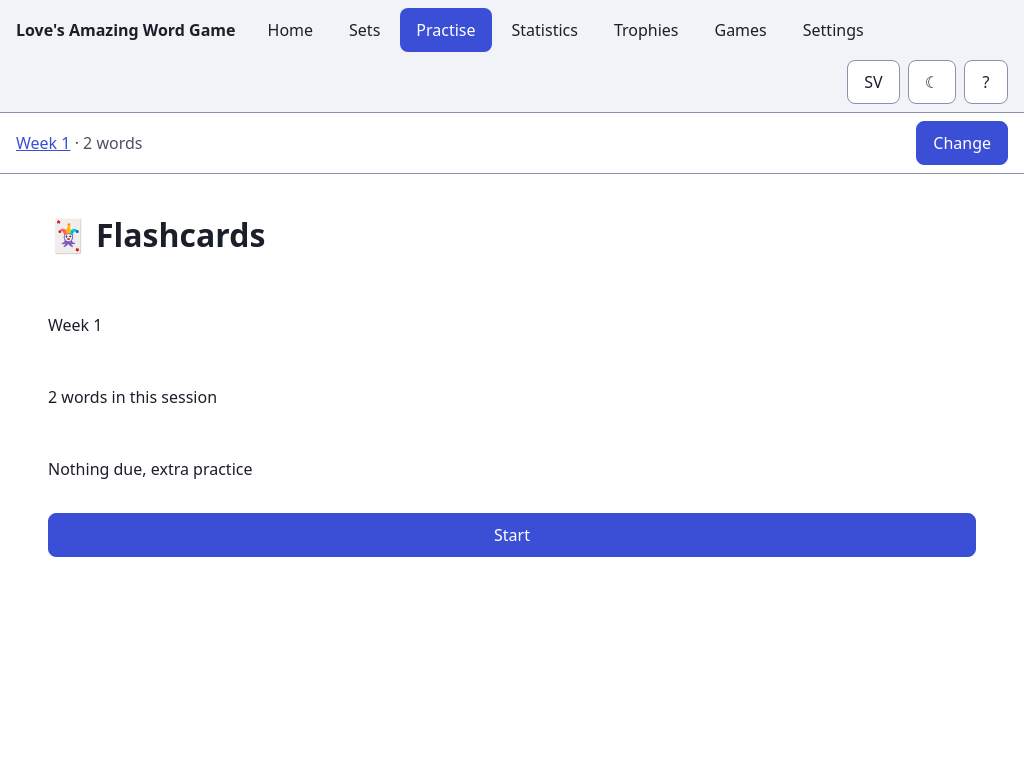
Test: training start › FR-TRN-9: says so when nothing is due and still lets the user practise
Expected: the text "Nothing due, extra practice" is shown, [48,458,252,480]
What coordinates should you click on to do the following:
click the button "Start"
I would click on:
 (512, 535)
Its box is [48,513,976,557].
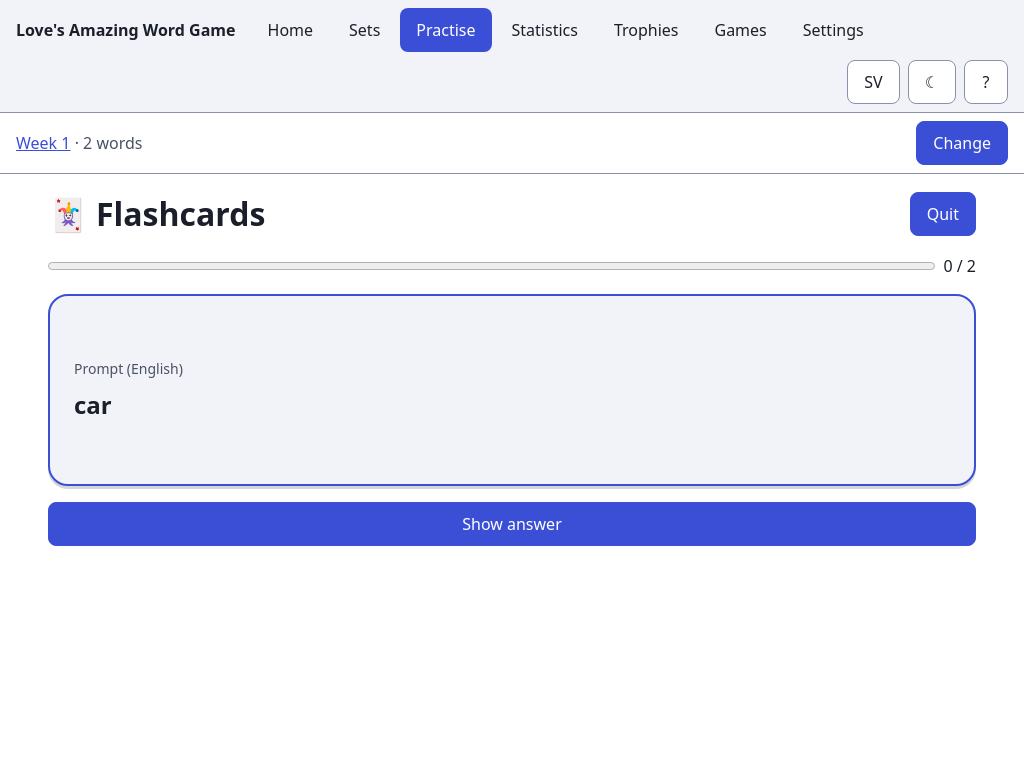
Result: the text "0 / 2" is shown at [943,254,976,278]
